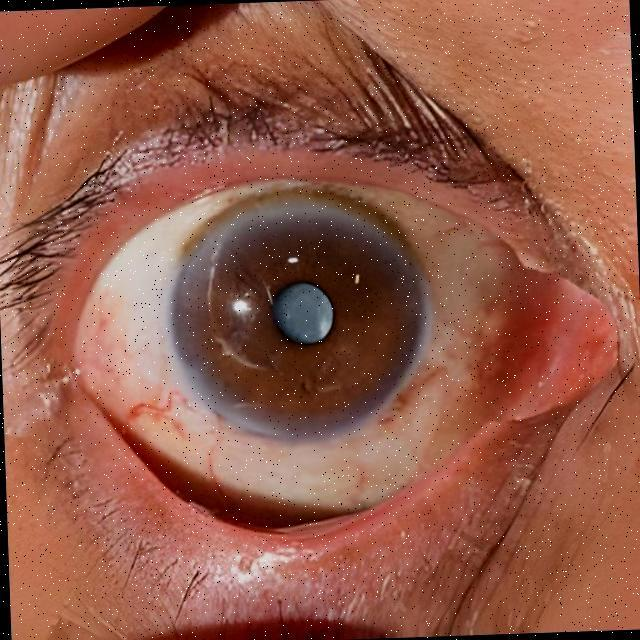Cataract: (166, 200, 433, 442)
